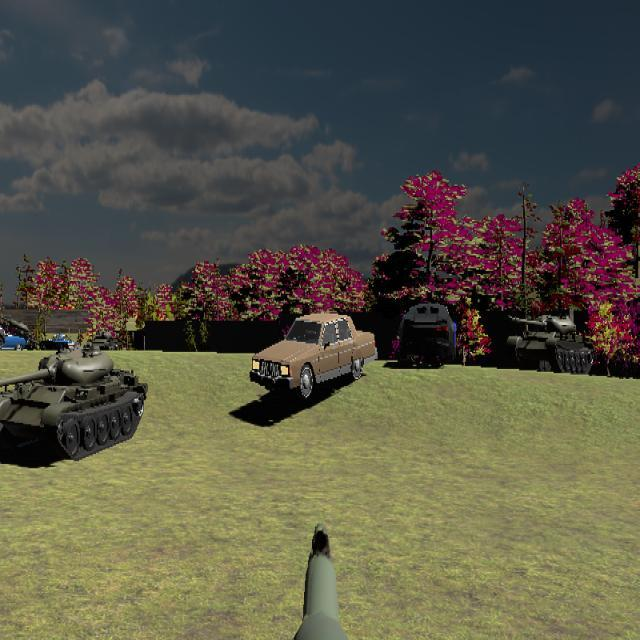Tank: (1, 347, 148, 461), (507, 313, 595, 376)
car: (249, 312, 378, 402), (398, 301, 458, 366), (0, 327, 29, 354)
